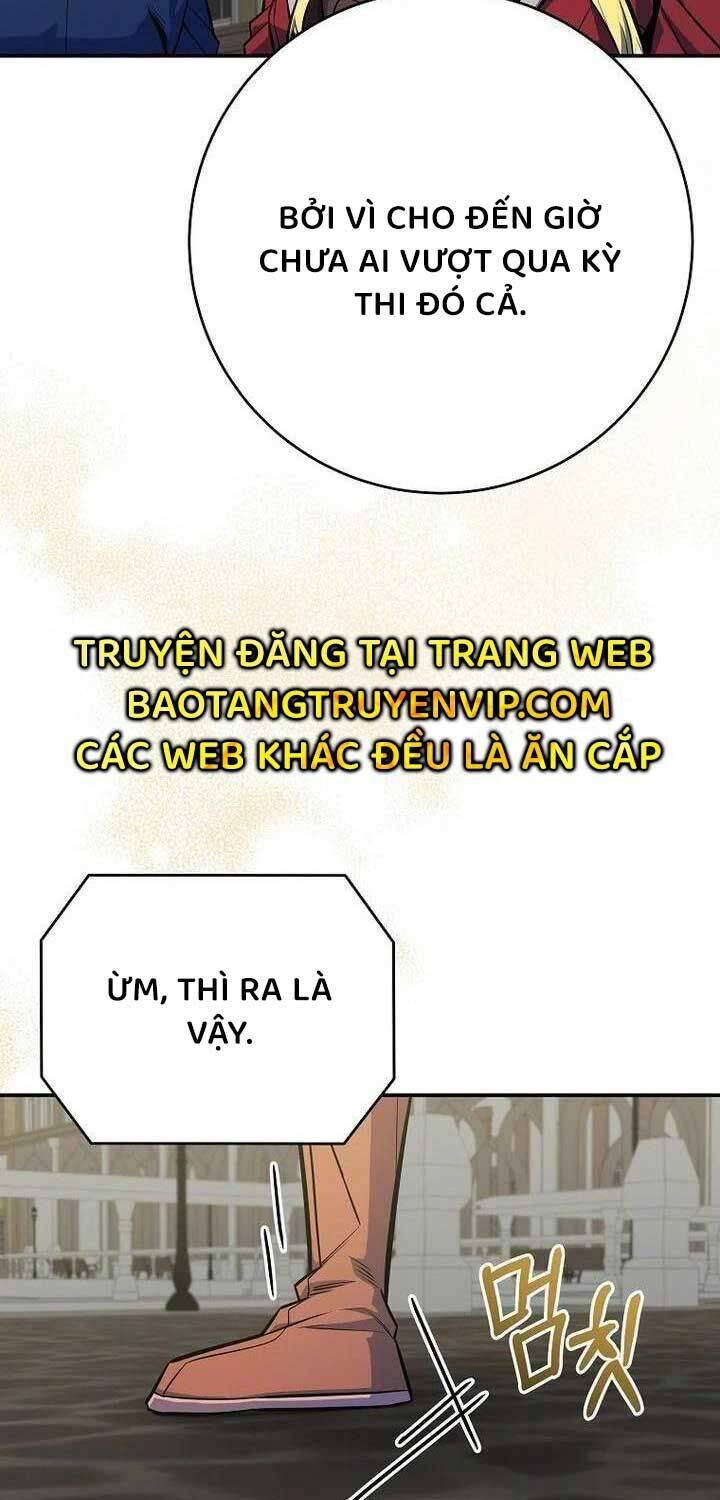quangcao: (64, 618, 664, 782)
